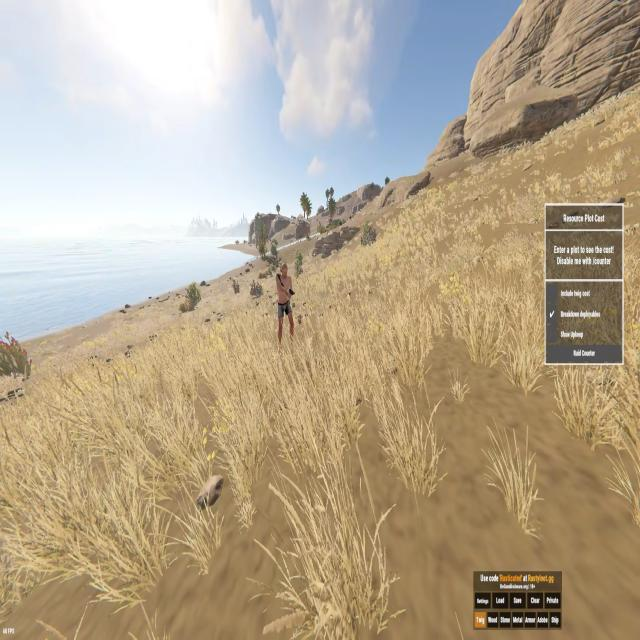Player: (275, 262, 295, 342)
